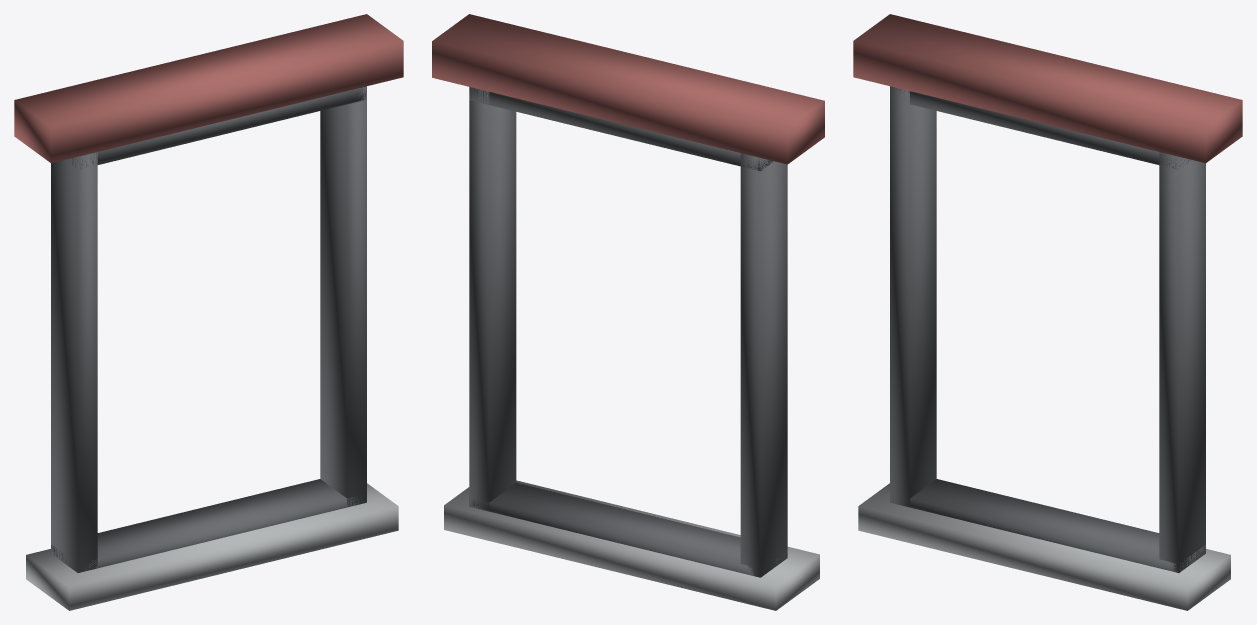
File: egress_window_brick_w86_h130_s55_d16.glb
The picture shows the model from 3 angles, left to right: view 1: azimuth 30°, elevation 25°; view 2: azimuth 150°, elevation 25°; view 3: azimuth 330°, elevation 25°; orthographic projection.
Parts seen in each view (by area): view 1: world; view 2: world; view 3: world.
Boxes of the visible parts, x1,y1,x2,y2 form: world: [14, 14, 403, 610]; world: [432, 14, 824, 610]; world: [853, 14, 1242, 610].
Size of the model in its own units: 1.22 by 1.59 by 0.26.
